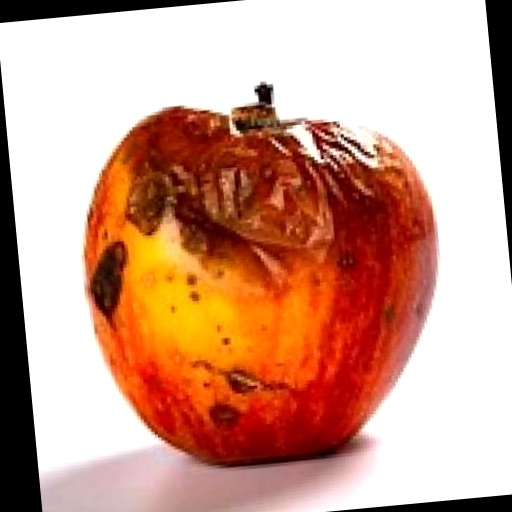fruit: (84, 85, 436, 463)
